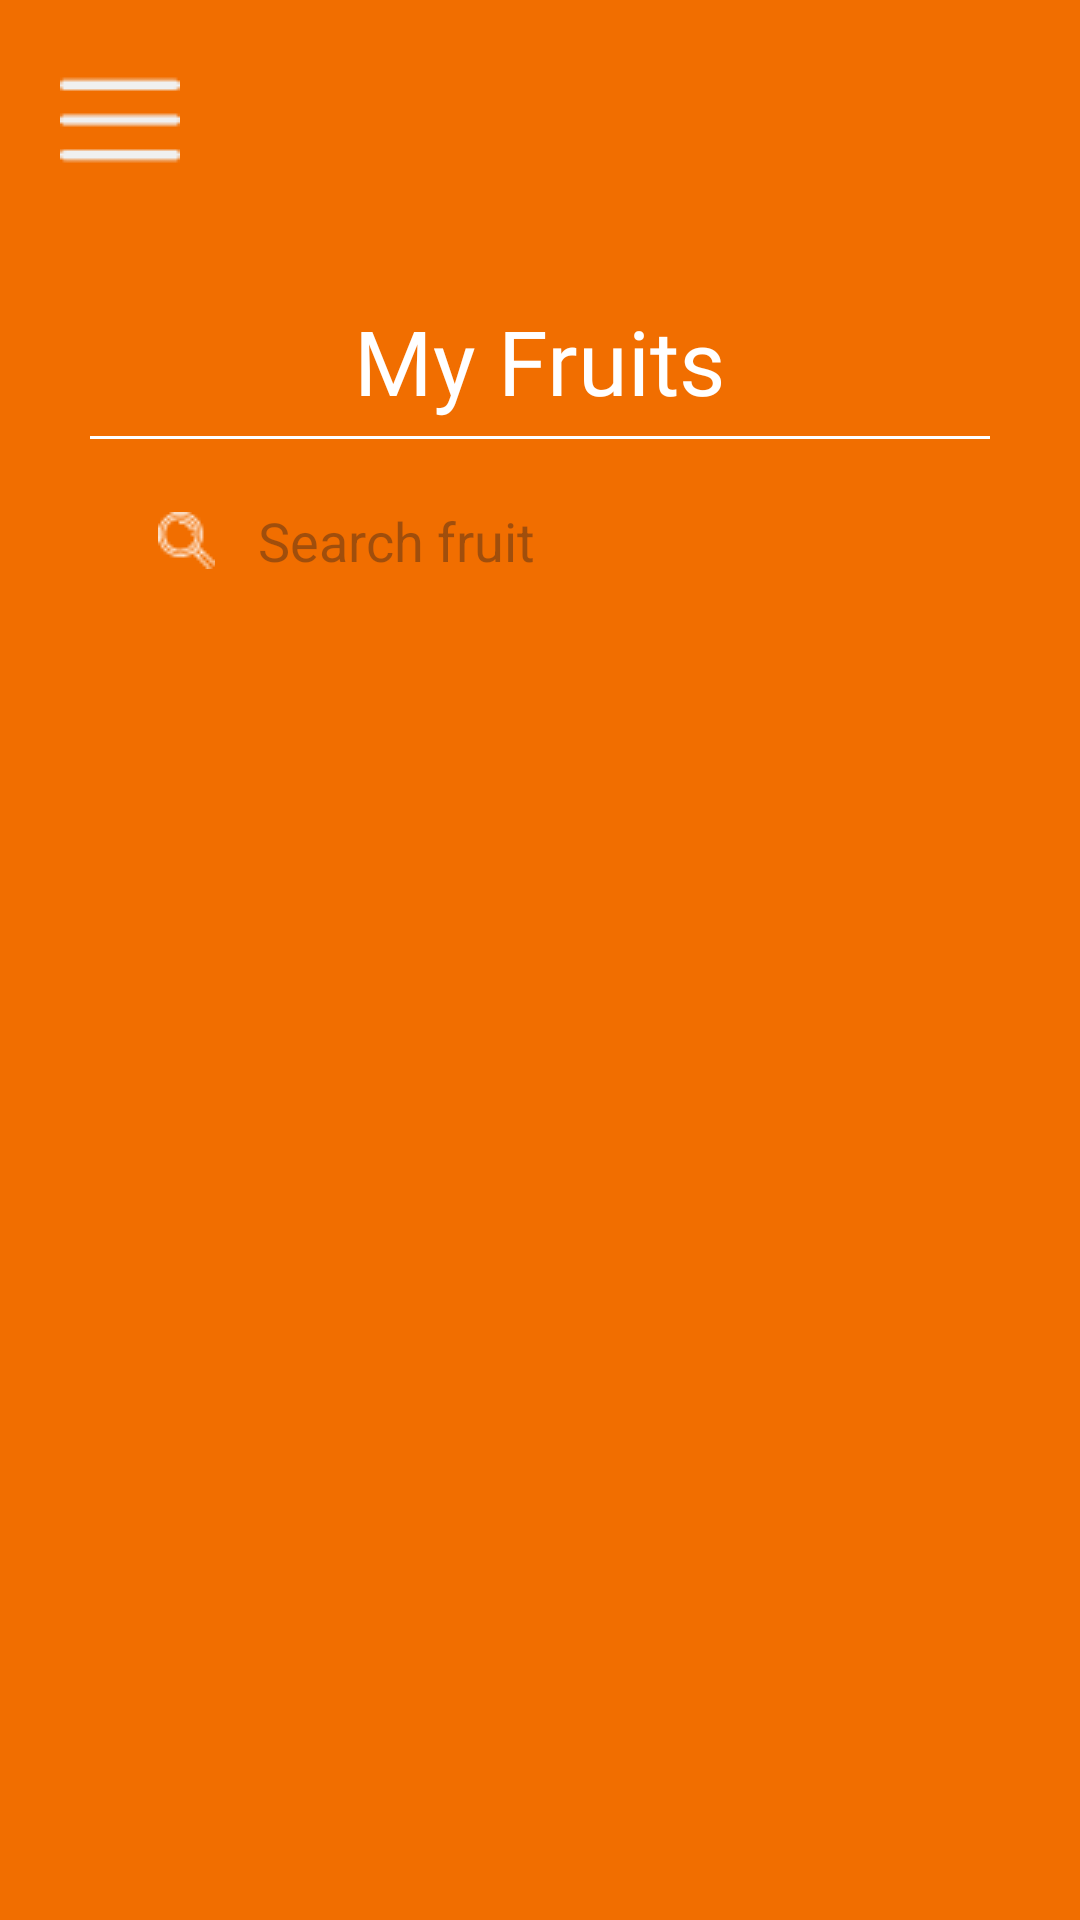

Icon bounding boxes for this 1080px×1920px phone screenshot, format [x1=x1, y1=y1, x2=x2, y2=y2]:
menu: [x1=60, y1=77, x2=180, y2=163]
